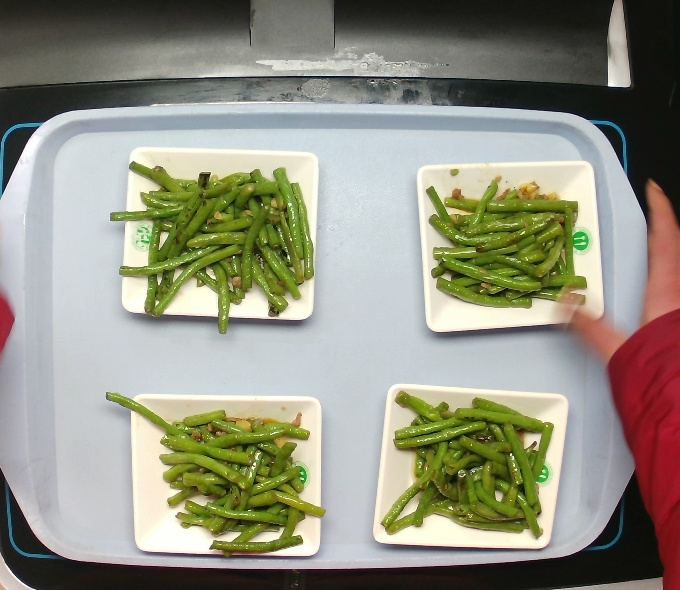wcq-RouMoJiangDou: (104, 152, 326, 336), (122, 396, 327, 570), (376, 386, 557, 543), (418, 173, 593, 328)
